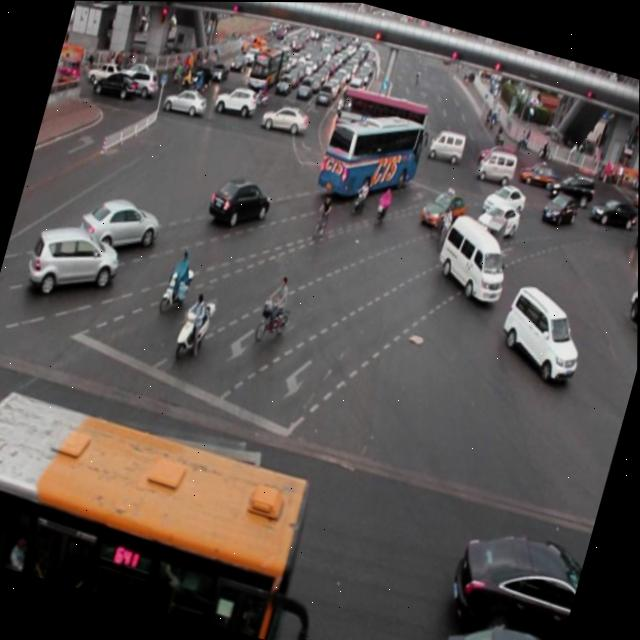car: (442, 513, 588, 640), (24, 217, 124, 308), (78, 187, 167, 260), (427, 606, 563, 640), (206, 172, 273, 232), (417, 182, 467, 235), (472, 195, 521, 241), (259, 99, 313, 137), (589, 189, 639, 230), (481, 175, 526, 217), (93, 66, 142, 103), (539, 190, 579, 228)
truck: (489, 276, 592, 385), (429, 209, 517, 308)
van: (0, 372, 324, 640), (315, 100, 428, 210)
